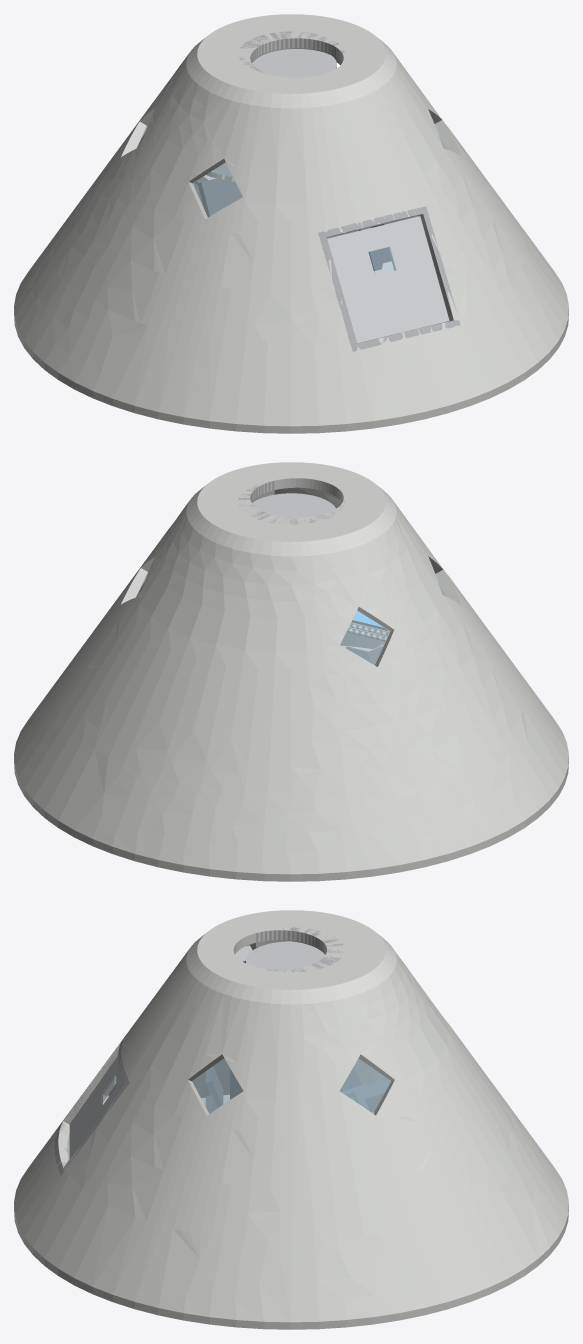
The model's file is cmd06_orion_capsule_interior.glb.
3 views of the same model, one above another, from view 1: azimuth 30°, elevation 25°; view 2: azimuth 150°, elevation 25°; view 3: azimuth 270°, elevation 25° (orthographic).
Visible parts, largest first — view 1: pressure_vessel, hatch_door_1, hatch_tunnel_1, window_glass_inner, hatch_door_2, hatch_tunnel_2, main_console; view 2: pressure_vessel, window_glass_inner, hatch_door_2, hatch_tunnel_2; view 3: pressure_vessel, window_glass_inner, hatch_door_1, hatch_door_2, seat_1, hatch_tunnel_1, hatch_tunnel_2.
Boxes of the visible parts, <box> form: pressure_vessel: <box>14,14,568,433</box>; hatch_door_1: <box>327,216,449,343</box>; hatch_tunnel_1: <box>318,206,460,351</box>; window_glass_inner: <box>136,123,446,274</box>; hatch_door_2: <box>252,49,336,77</box>; hatch_tunnel_2: <box>239,31,344,73</box>; main_console: <box>197,176,242,216</box>; pressure_vessel: <box>14,462,568,881</box>; window_glass_inner: <box>136,572,446,664</box>; hatch_door_2: <box>252,493,335,517</box>; hatch_tunnel_2: <box>238,481,344,524</box>; pressure_vessel: <box>14,910,568,1329</box>; window_glass_inner: <box>101,1058,390,1113</box>; hatch_door_1: <box>69,1056,124,1158</box>; hatch_door_2: <box>246,941,325,969</box>; seat_1: <box>205,1065,389,1112</box>; hatch_tunnel_1: <box>54,1034,129,1176</box>; hatch_tunnel_2: <box>256,927,343,972</box>.
Size of the model in its own units: 4.99 by 2.6 by 4.99.
